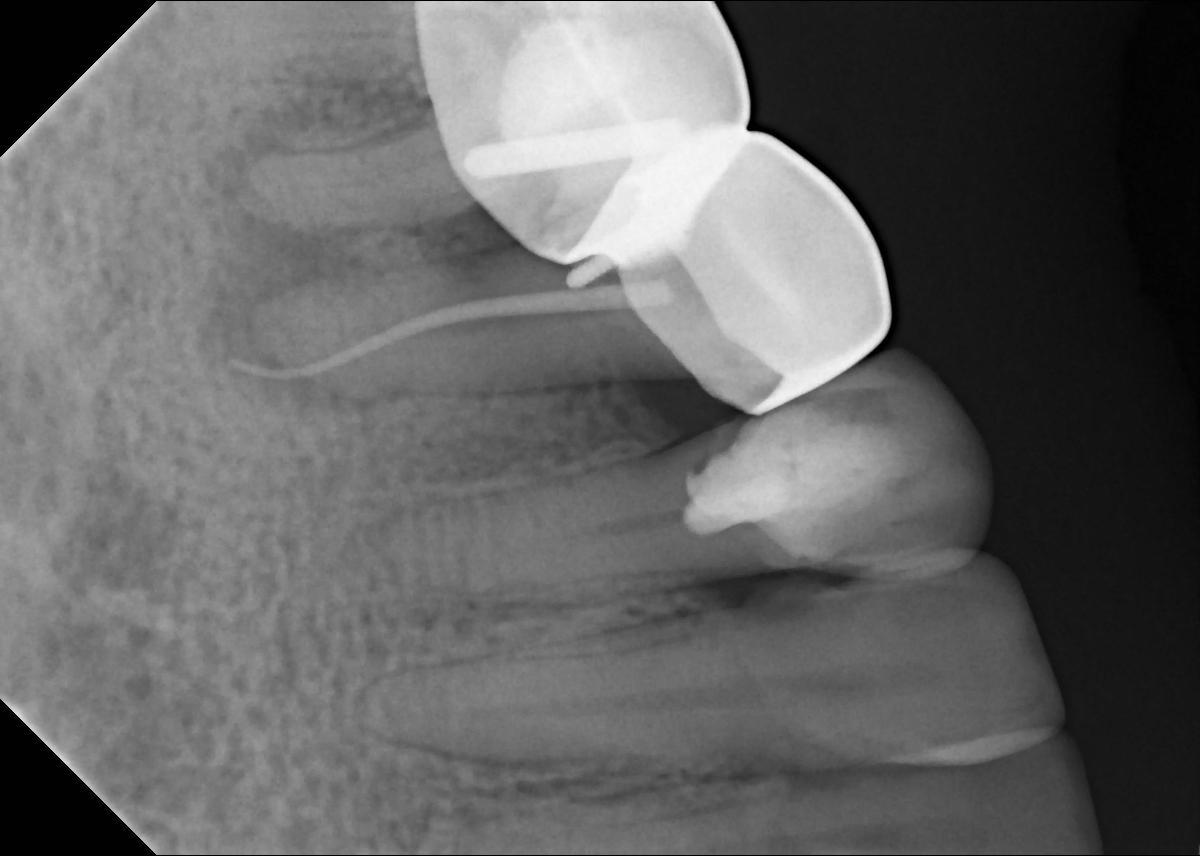Dental Caries: (196, 52, 511, 405)
